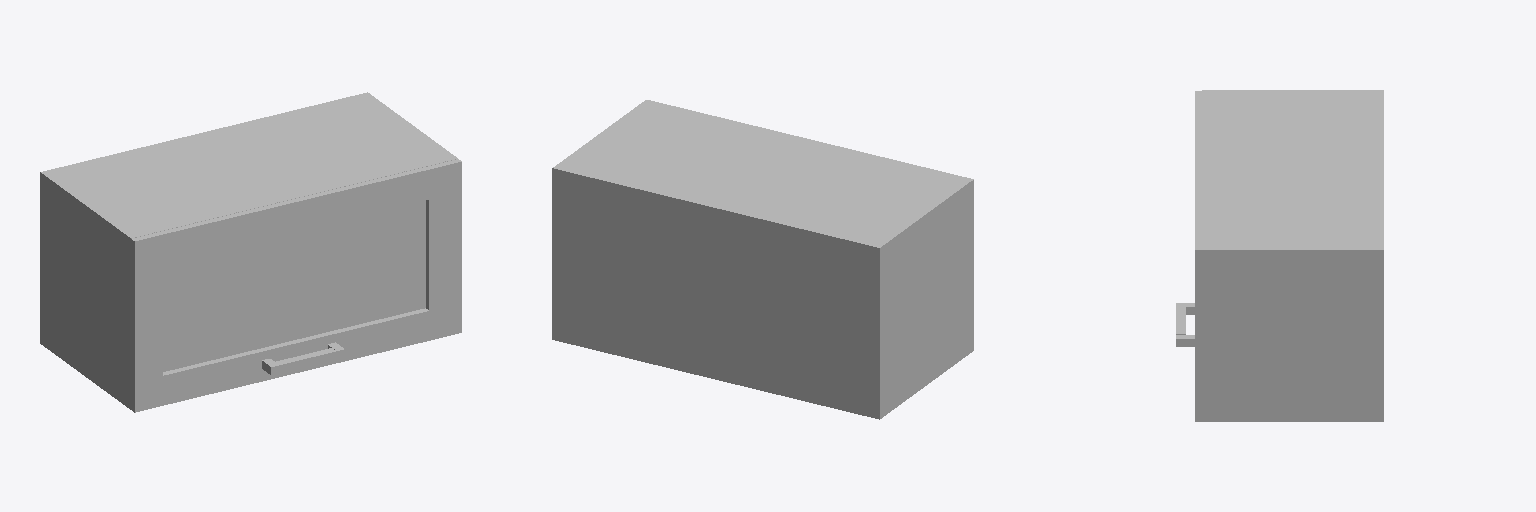
File: airCond.obj
3 views of the same model, side by side, from view 1: azimuth 30°, elevation 25°; view 2: azimuth 150°, elevation 25°; view 3: azimuth 270°, elevation 25° (orthographic).
Parts seen in each view (by area): view 1: Cube_Cube.001, Cube.002_Cube, Cube.001_Cube.002, Cube.005_Cube.006; view 2: Cube_Cube.001, Cube.001_Cube.002; view 3: Cube_Cube.001, Cube.001_Cube.002.
Part boxes in pixels (left/top/right/bottom): Cube_Cube.001: left=40, top=92, right=457, bottom=408; Cube.002_Cube: left=131, top=159, right=455, bottom=371; Cube.001_Cube.002: left=130, top=159, right=461, bottom=412; Cube.005_Cube.006: left=276, top=348, right=336, bottom=373; Cube_Cube.001: left=552, top=102, right=969, bottom=419; Cube.001_Cube.002: left=644, top=100, right=973, bottom=353; Cube_Cube.001: left=1203, top=90, right=1383, bottom=421; Cube.001_Cube.002: left=1195, top=91, right=1202, bottom=421.
Size of the model in its own units: 80 by 40.07 by 43.91.